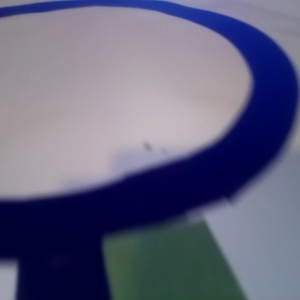top_right: (138, 90, 255, 159), (28, 12, 99, 39)
